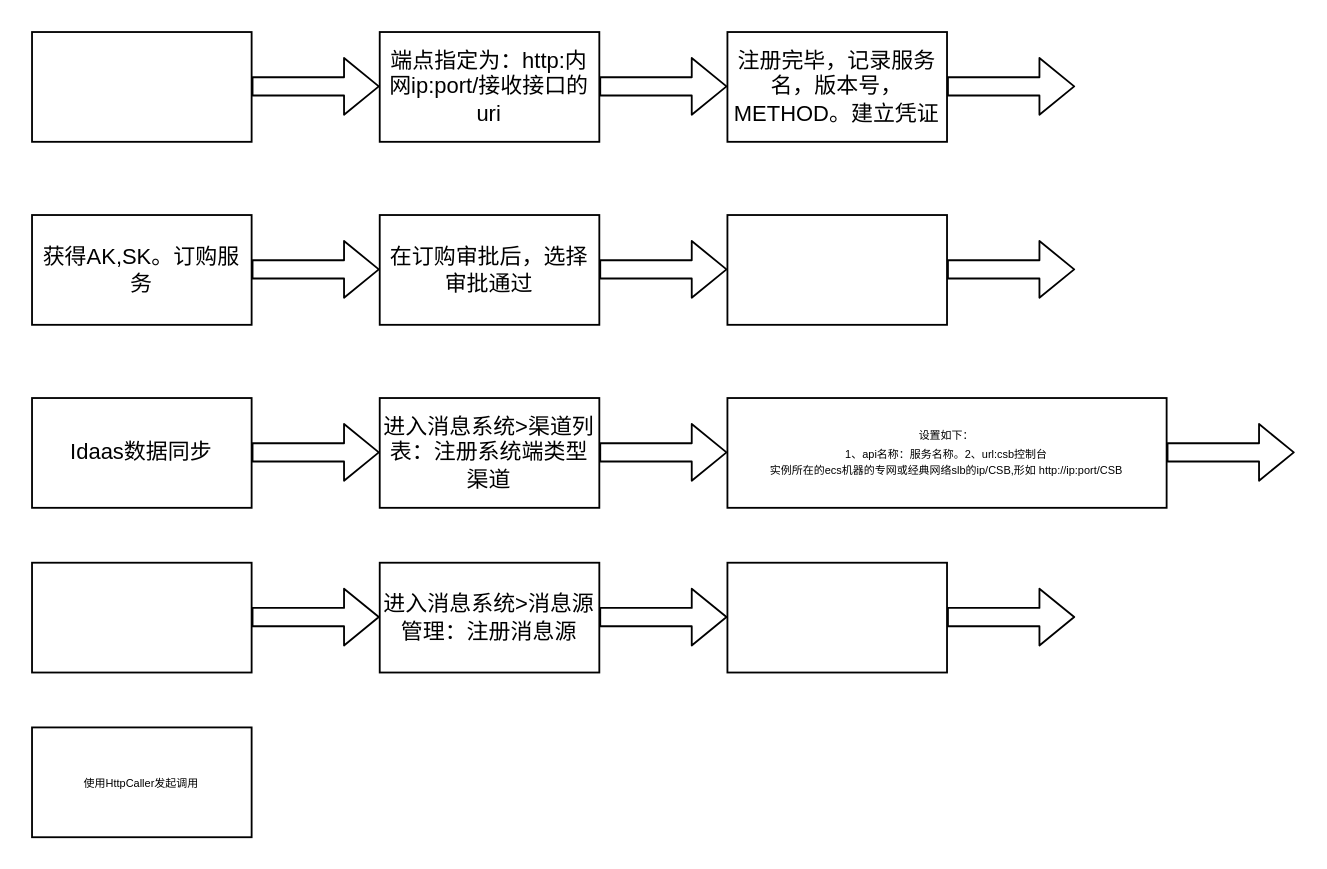
This 1327x869 diagram has some shape labels left out. Each missing label, with the centre of its shape:
"3、版本号，4、AK 5、SK，6、METHOD" belongs at (x=141, y=617).
"在csb控制台注册服务" belongs at (x=141, y=86).
"记录消息源id和类型" belongs at (x=836, y=617).
"进入消息系统>渠道号管理" belongs at (x=836, y=269).
